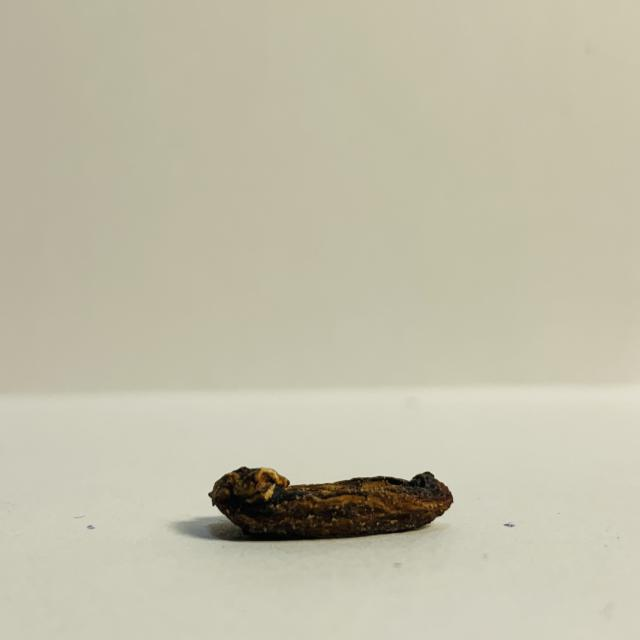Flat_cocoabeans: (113, 417, 481, 574)
